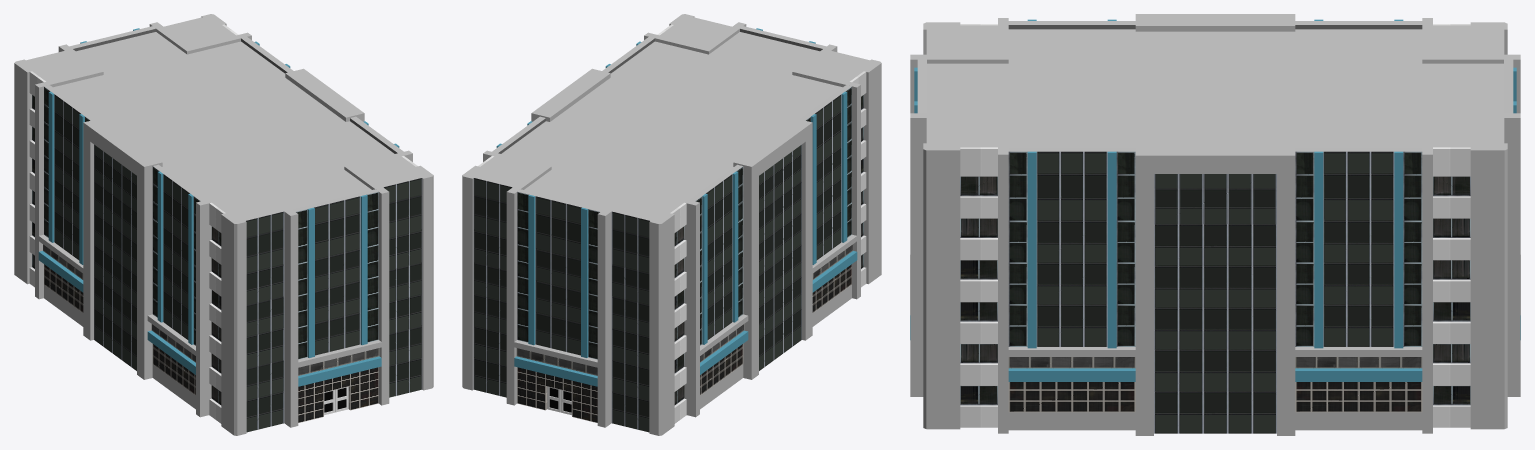
3 views of the same model, side by side, from view 1: azimuth 30°, elevation 25°; view 2: azimuth 150°, elevation 25°; view 3: azimuth 270°, elevation 25° (orthographic). The views are drawn at different scales.
Visible parts, largest first — view 1: Building; view 2: Building; view 3: Building.
Part boxes in pixels (x1,y1,x2,y2): Building: (14,14,433,435); Building: (462,14,881,435); Building: (910,14,1520,435).
Size of what is drawn, in the model's own units: 21.78 by 20.12 by 39.72.
